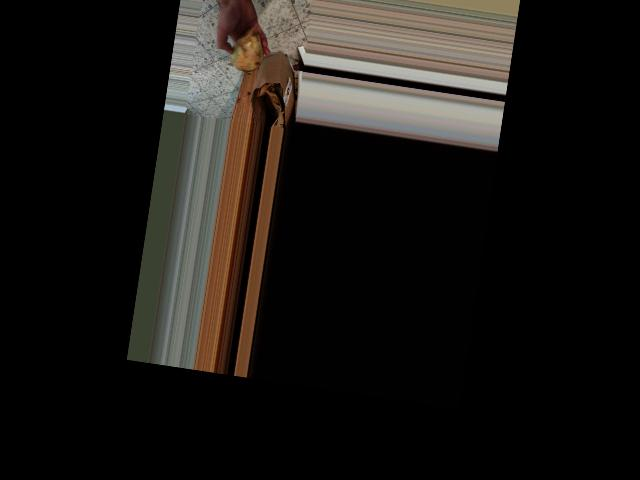onion: (226, 25, 267, 77)
